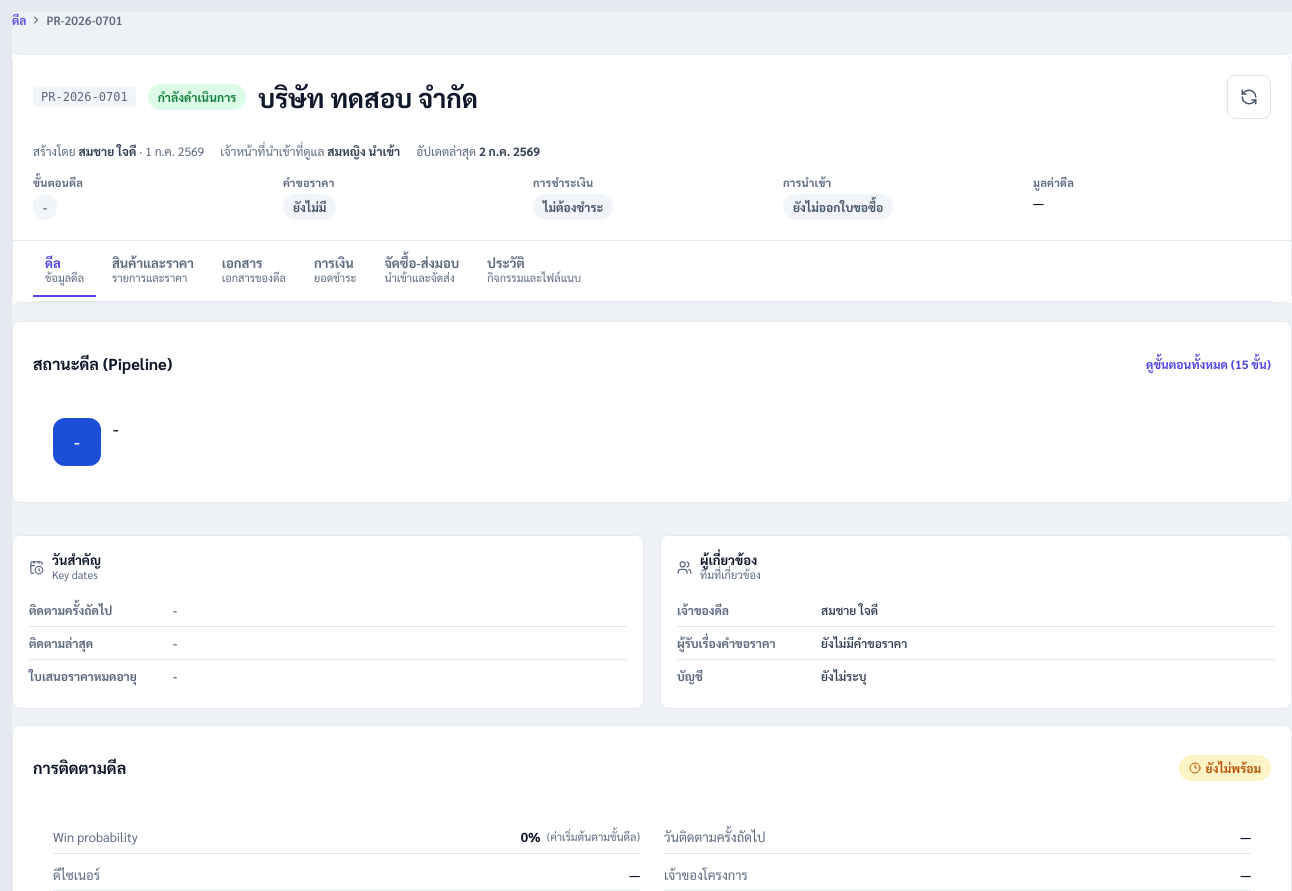
TicketDetailPage › factory price in baht (ราคาตั้ง estimate removed) › shows the factory price in its own currency with a baht conversion beside it
Click the tab "สินค้าและราคา รายการและราคา".
click(153, 271)  # box [100,245,206,297]
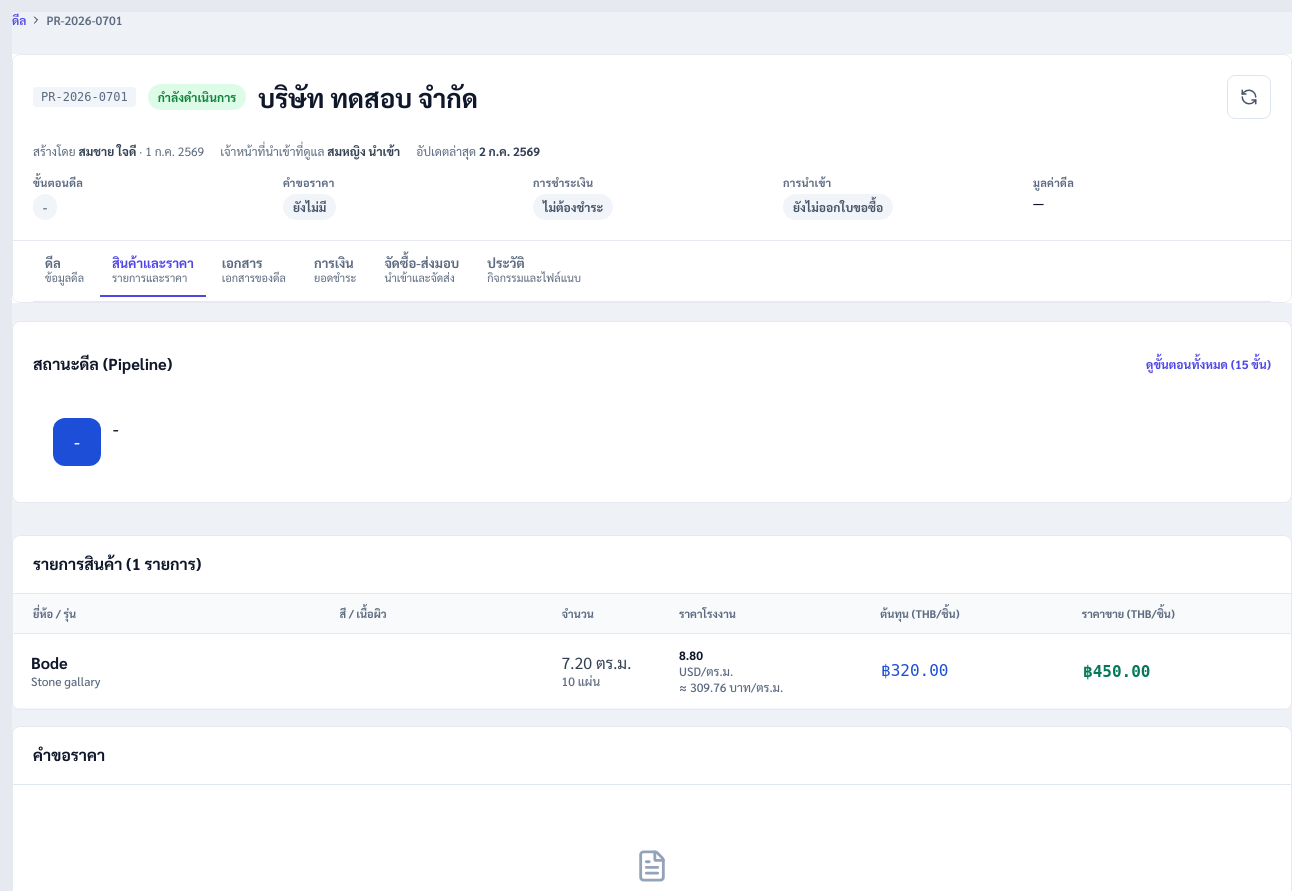
Expected: the text "8.80" is shown, [679,647,703,663]
Expected: the text "≈ 309.76 บาท/ตร.ม." is shown, [679,679,783,695]
